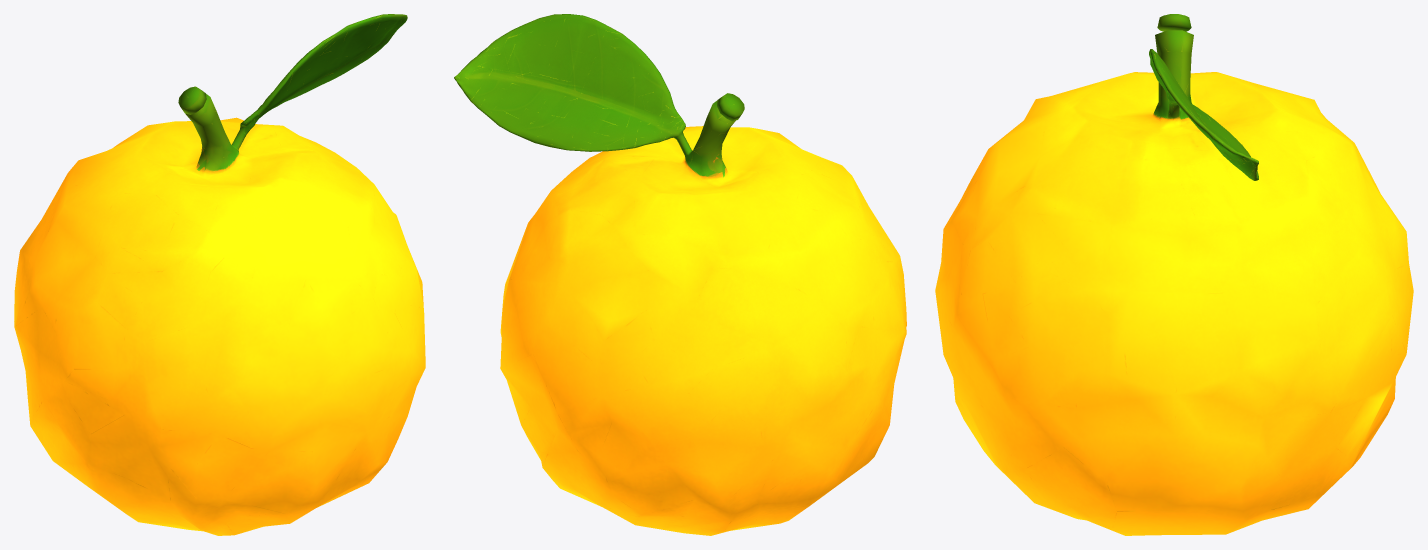
Rendered from Meshy_AI_A_low_poly_orange_0517121755_texture.fbx.
3 views of the same model, side by side, from view 1: azimuth 30°, elevation 25°; view 2: azimuth 150°, elevation 25°; view 3: azimuth 270°, elevation 25° (orthographic). The views are drawn at different scales.
Parts seen in each view (by area): view 1: Mesh_0; view 2: Mesh_0; view 3: Mesh_0.
Boxes of the visible parts, x1,y1,x2,y2 form: Mesh_0: [14, 14, 425, 535]; Mesh_0: [454, 14, 906, 535]; Mesh_0: [935, 14, 1413, 535].
Size of the model in its own units: 171 by 191 by 159.
Materials: 1 (1 with a texture image).
